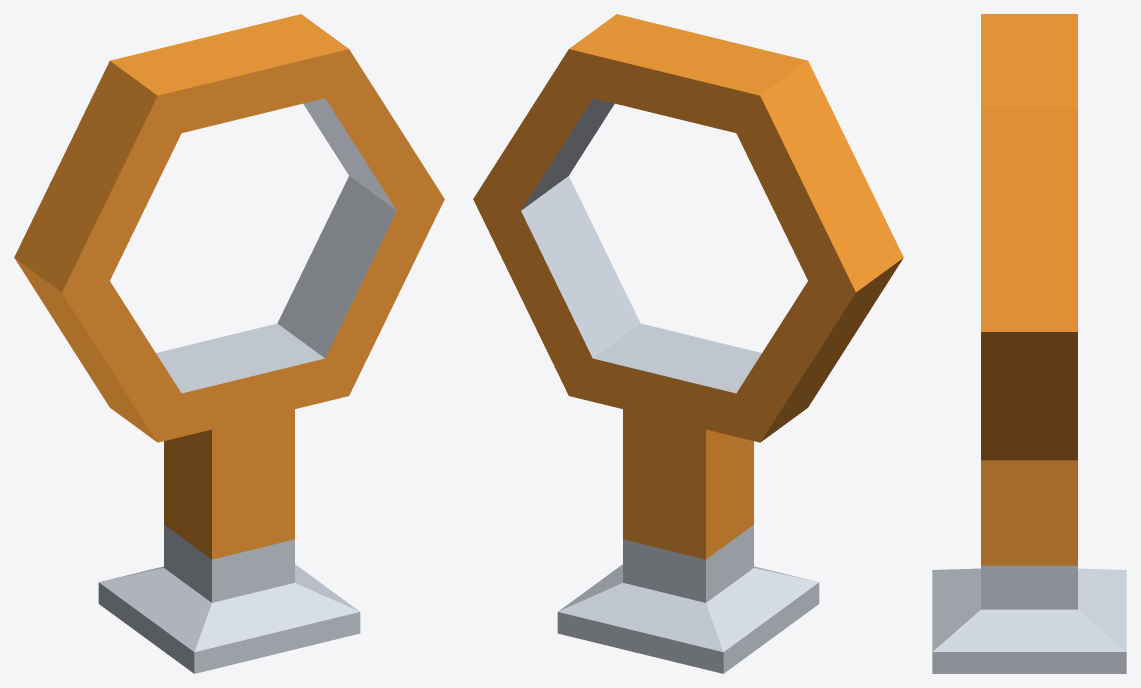
File: pipe_ringSupport.obj
The picture shows the model from 3 angles, left to right: view 1: azimuth 30°, elevation 25°; view 2: azimuth 150°, elevation 25°; view 3: azimuth 270°, elevation 25°; orthographic projection.
Parts seen in each view (by area): view 1: pipe_ringSupport; view 2: pipe_ringSupport; view 3: pipe_ringSupport.
Part boxes in pixels (<box>): pipe_ringSupport: <box>14,14,444,673</box>; pipe_ringSupport: <box>473,14,903,673</box>; pipe_ringSupport: <box>932,14,1126,673</box>.
Bounding box in the file's own units: 0.9238 × 1.3 × 0.4.
